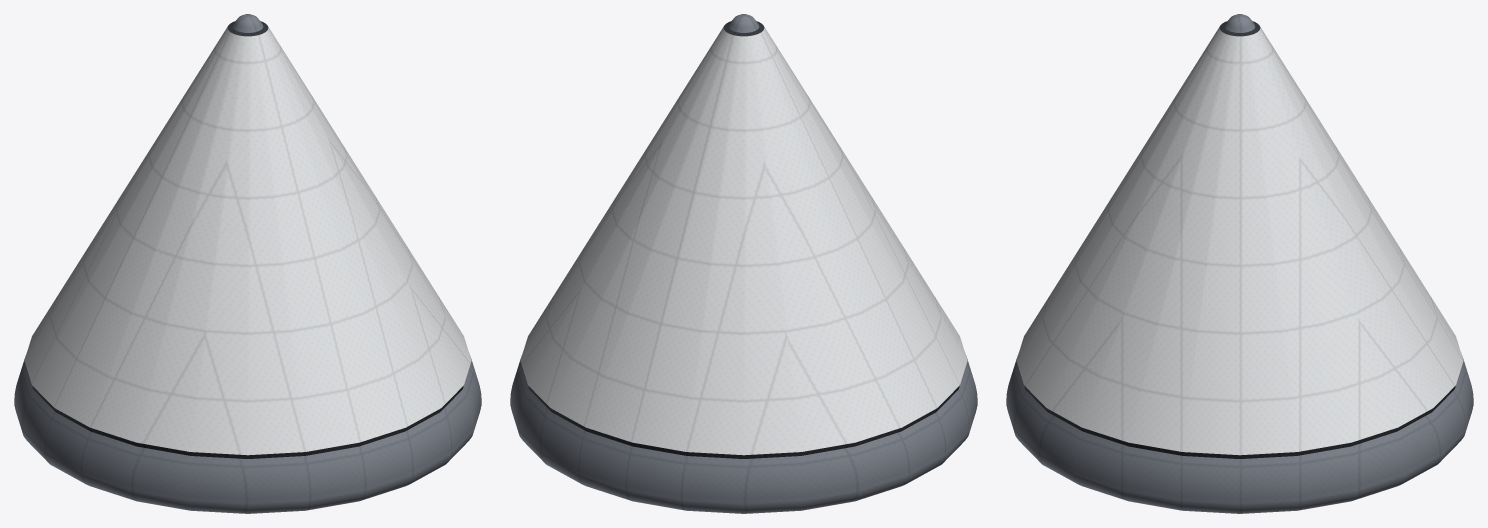
3 renders of one model, left to right at view 1: azimuth 30°, elevation 25°; view 2: azimuth 150°, elevation 25°; view 3: azimuth 270°, elevation 25°, orthographic.
Visible parts, largest first — view 1: R4B_Cone; view 2: R4B_Cone; view 3: R4B_Cone.
Boxes of the visible parts, x1,y1,x2,y2 form: R4B_Cone: (14,14,481,513); R4B_Cone: (510,14,977,513); R4B_Cone: (1006,14,1473,513).
Size of the model in its own units: 0.512 by 0.4947 by 0.512.
3 materials, 3 textured.
